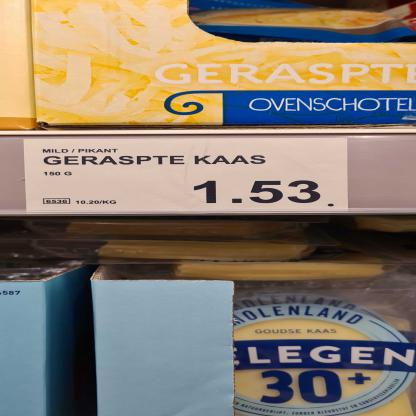prtg: (24, 139, 349, 215)
